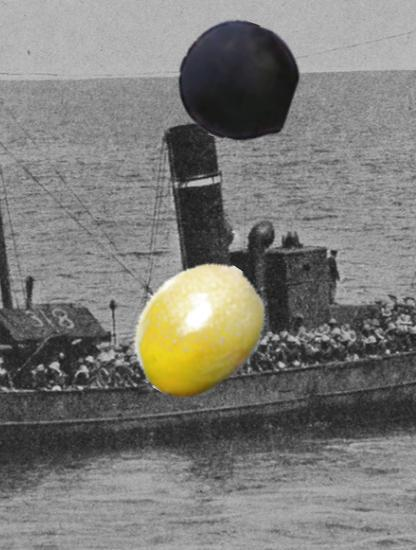Grape: (178, 21, 299, 142)
Maracuja: (126, 257, 273, 404)
